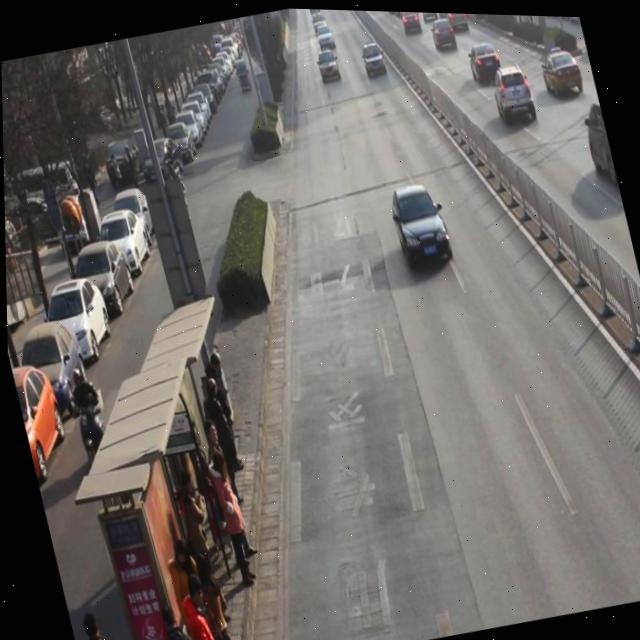car: (385, 174, 456, 270), (576, 91, 618, 187), (488, 57, 539, 124), (536, 37, 586, 99), (466, 34, 505, 82), (358, 35, 388, 78), (429, 11, 459, 52), (314, 44, 341, 81), (314, 18, 335, 49), (399, 9, 423, 34), (446, 10, 470, 29), (418, 10, 439, 19), (436, 10, 457, 17)
